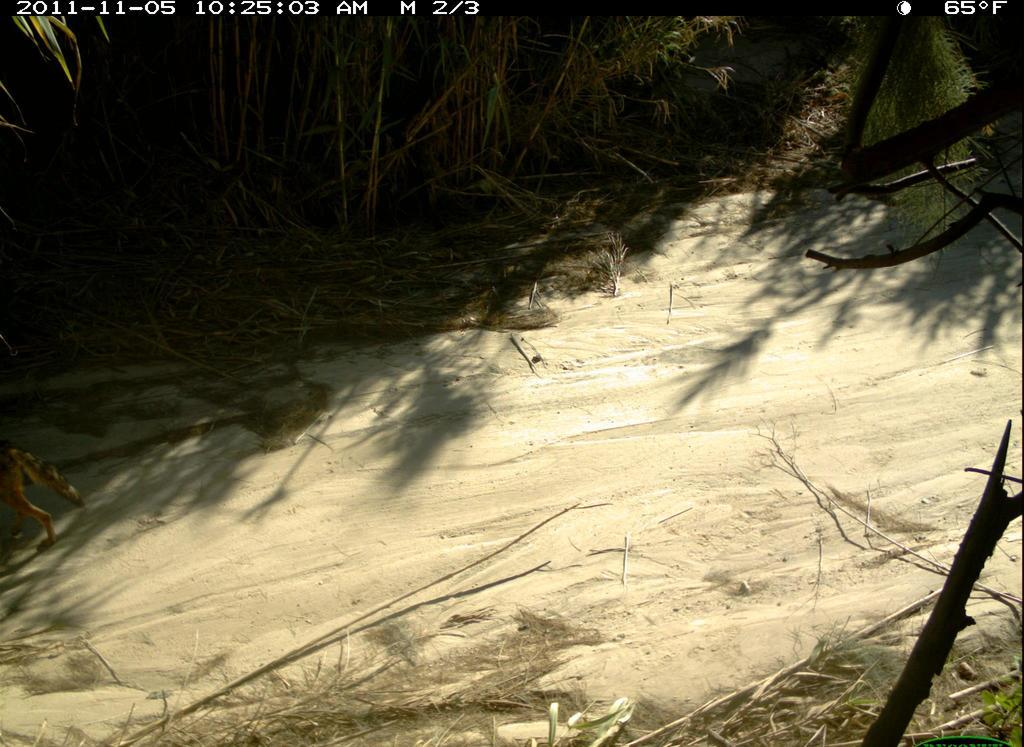coyote: (1, 423, 100, 562)
